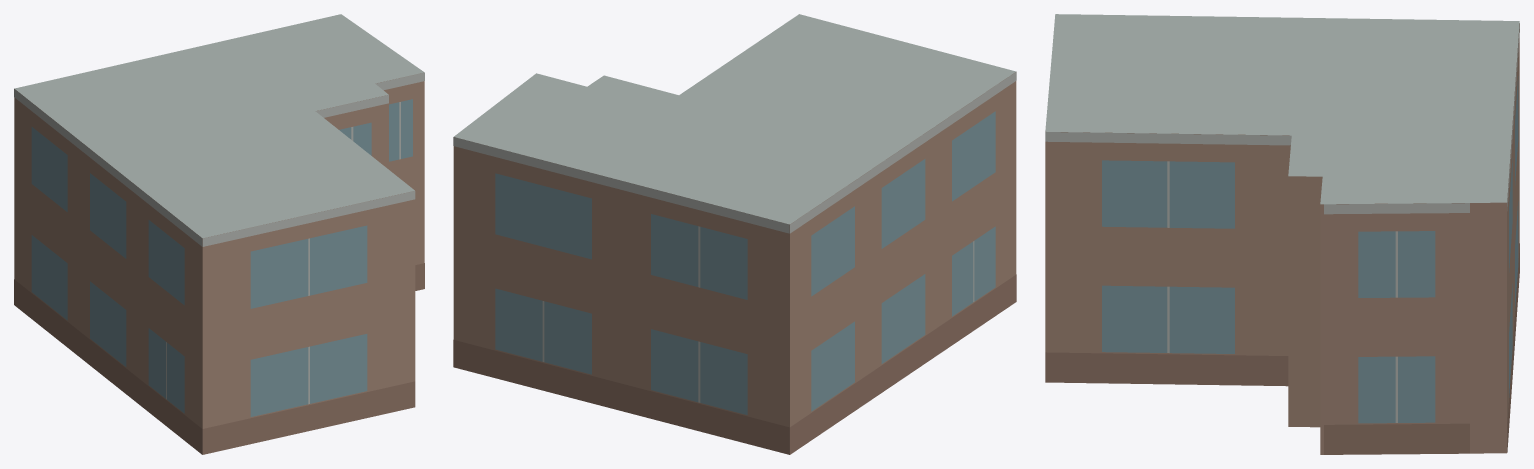
The model's file is survey-upis-32724756.glb.
3 renders of one model, left to right at view 1: azimuth 30°, elevation 25°; view 2: azimuth 150°, elevation 25°; view 3: azimuth 270°, elevation 25°, orthographic. The views are drawn at different scales.
Parts seen in each view (by area): view 1: survey-upis-32724756.tmp; view 2: survey-upis-32724756.tmp; view 3: survey-upis-32724756.tmp.
Part boxes in pixels (<box>): survey-upis-32724756.tmp: <box>14,14,424,454</box>; survey-upis-32724756.tmp: <box>453,14,1016,454</box>; survey-upis-32724756.tmp: <box>1045,14,1519,454</box>.
Bounding box in the file's own units: 9.94 × 6.1 × 10.48.
